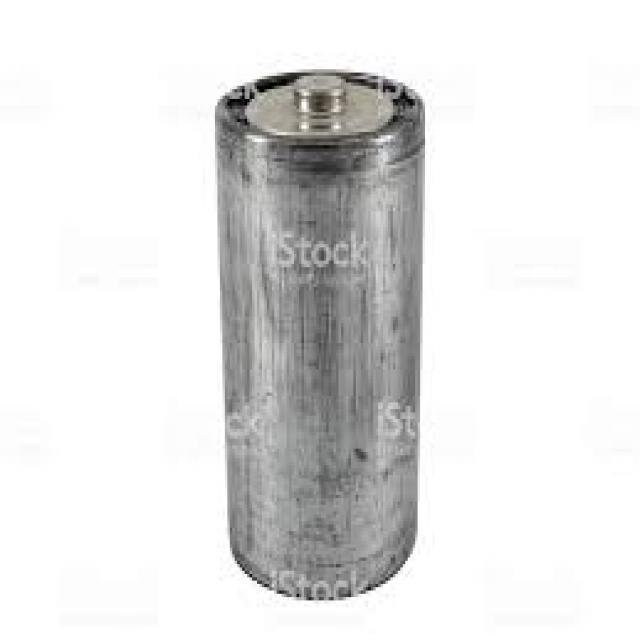battery: (218, 62, 431, 598)
